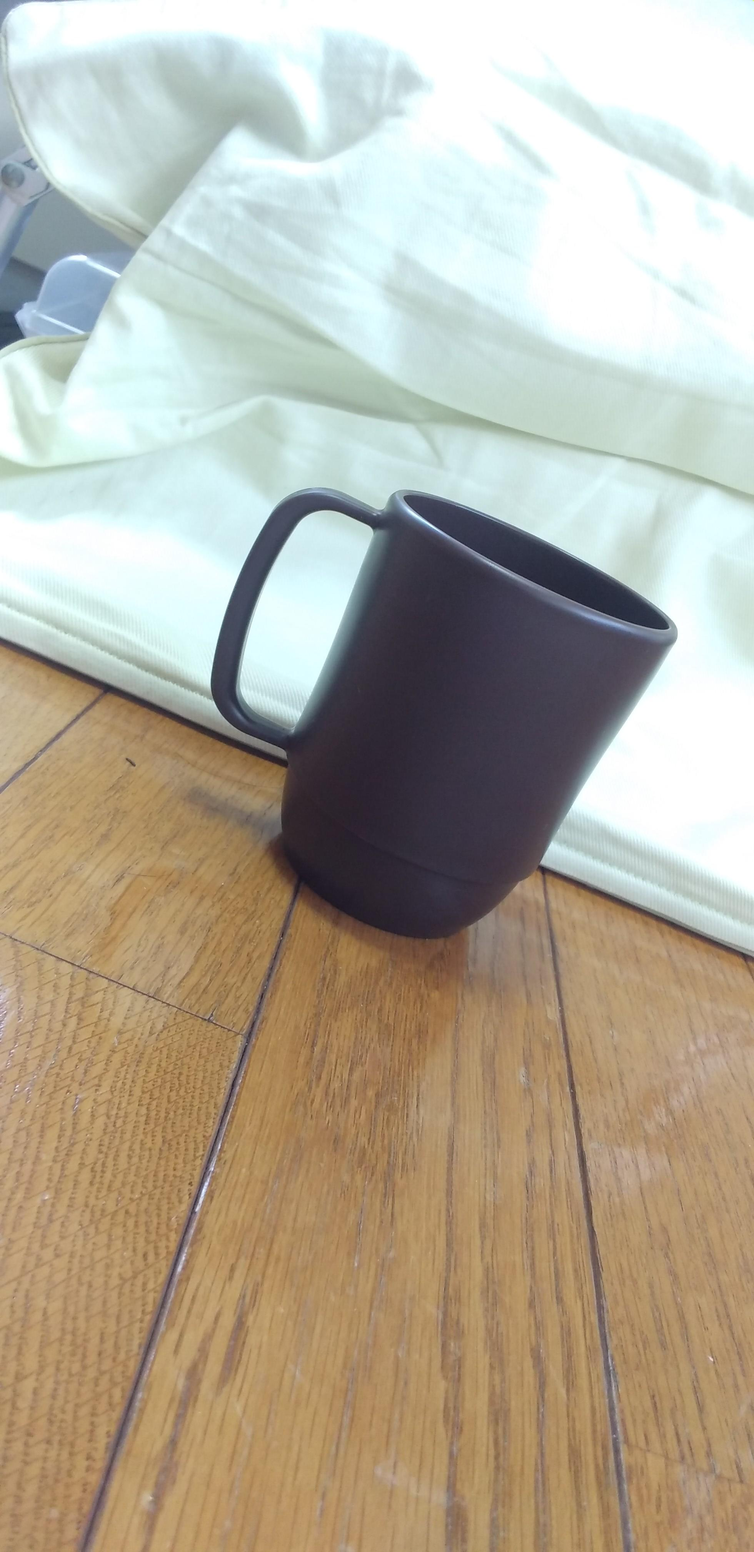mug-real100-3d100: (211, 489, 676, 938)
